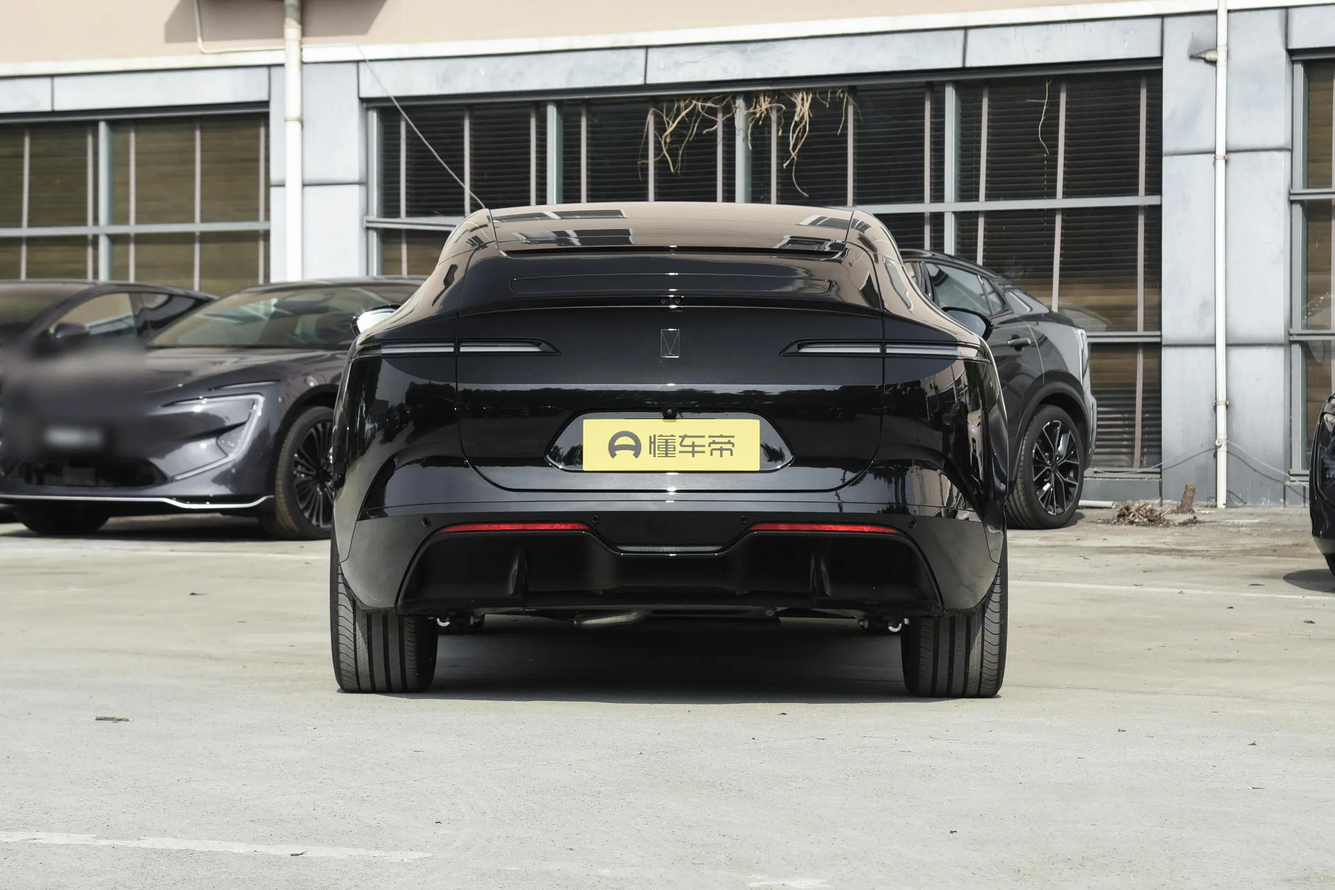AVATR: (661, 329, 680, 358)
